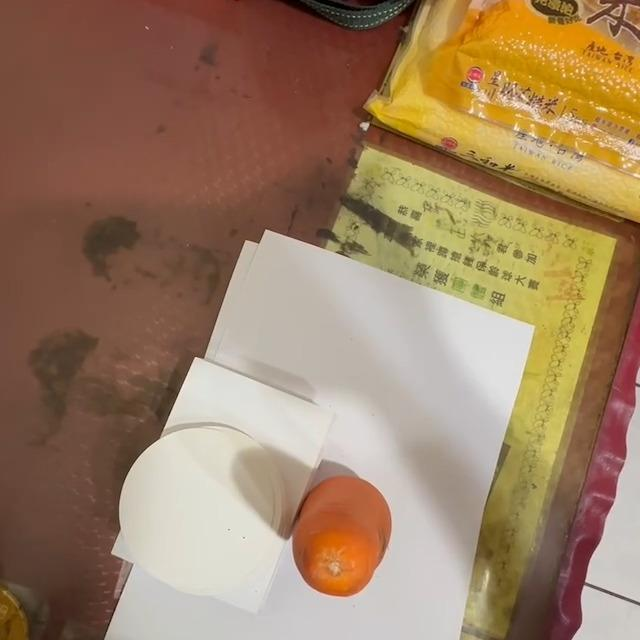carrot: (293, 478, 394, 595)
